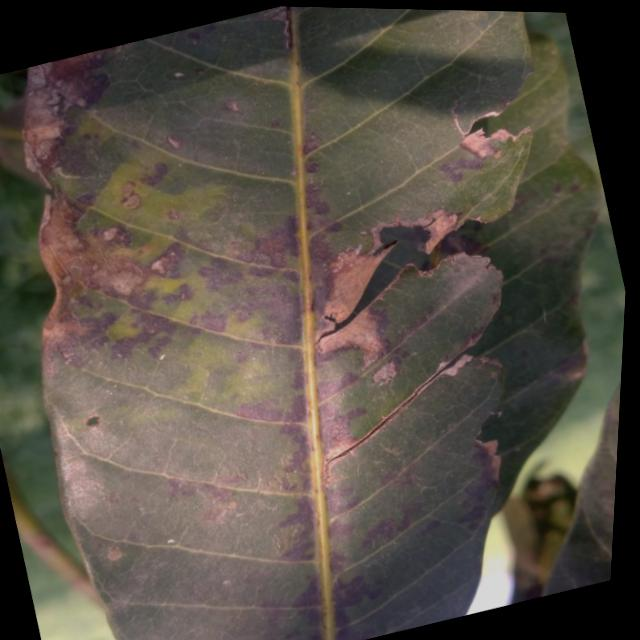Anthracnose: (81, 409, 104, 427)
Bacterial Cancer: (26, 215, 96, 333), (307, 293, 389, 353), (453, 120, 505, 154), (415, 215, 458, 255), (317, 442, 357, 471)
Powdery Mildew: (442, 350, 476, 375)
black die: (103, 332, 143, 366), (278, 393, 313, 428), (333, 576, 368, 609), (252, 228, 291, 254), (302, 180, 329, 215), (282, 502, 315, 526), (294, 589, 319, 606)
